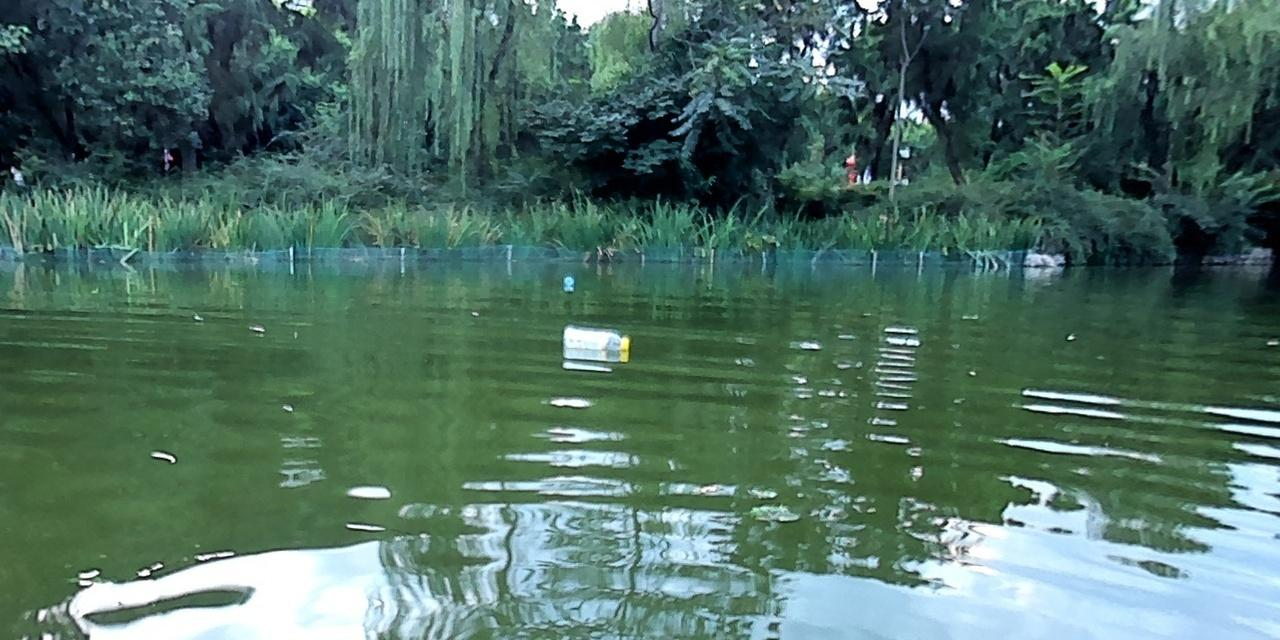bottle: (561, 324, 630, 351), (561, 274, 573, 288)
